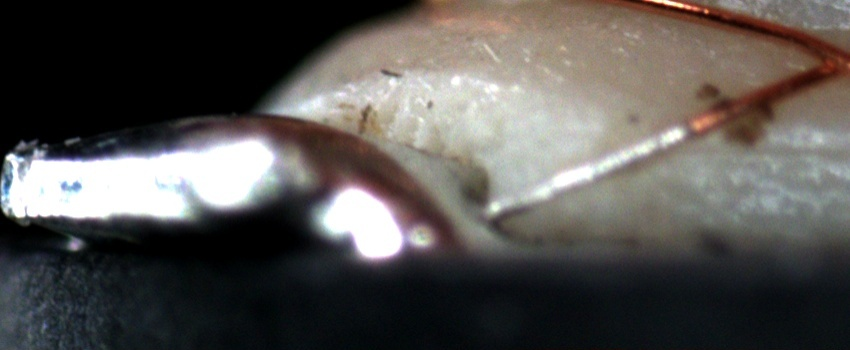CL: (797, 30, 850, 88)
DL: (681, 122, 850, 186)
TS: (483, 120, 694, 220)
